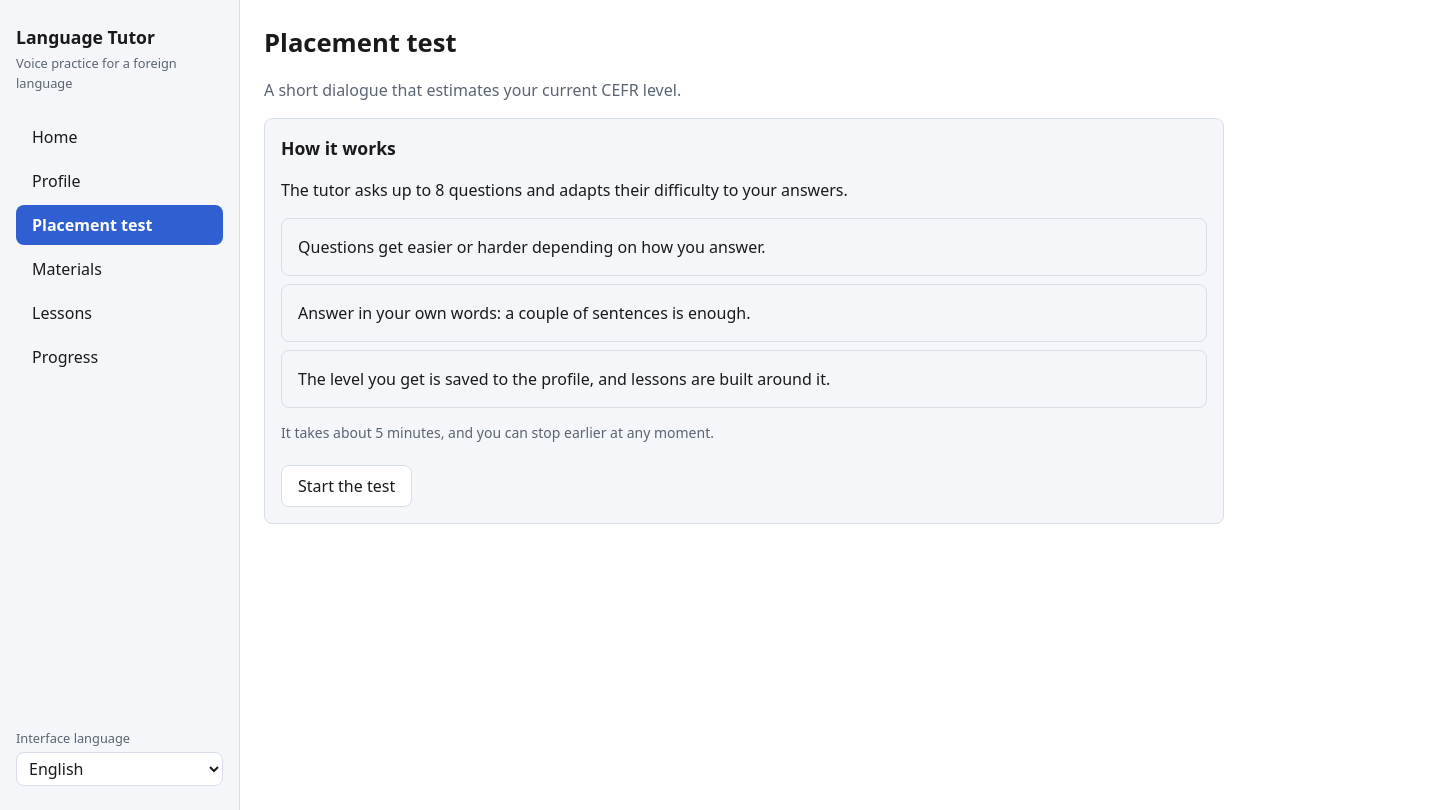
Test: отказы языковой модели › объясняет 501 ненастроенной моделью, а не общей ошибкой
Click the button "Start the test".
click(347, 486)  # box top-left (281, 465), bottom-right (412, 507)
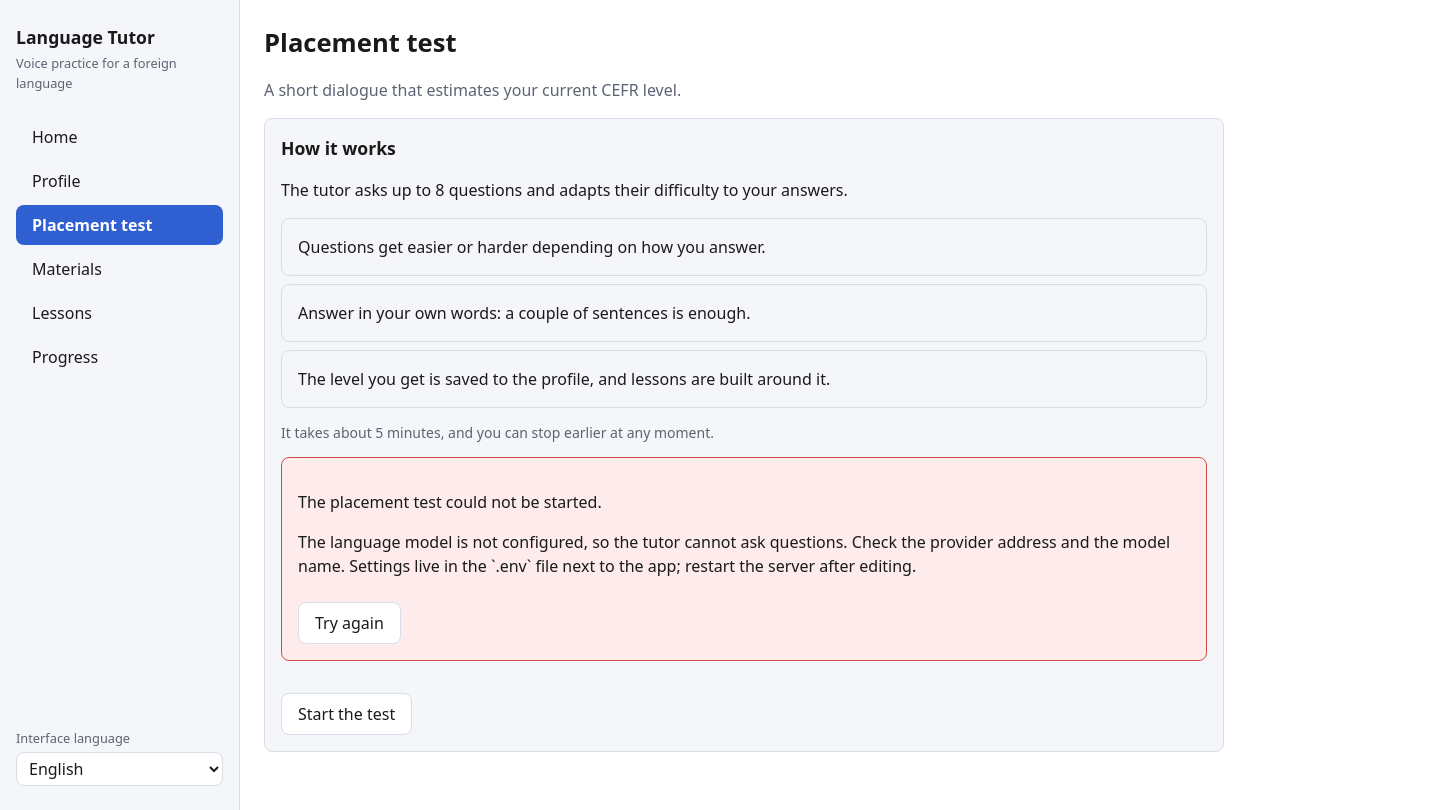
Expected: the button "Try again" is enabled, top-left (298, 602), bottom-right (401, 644)
